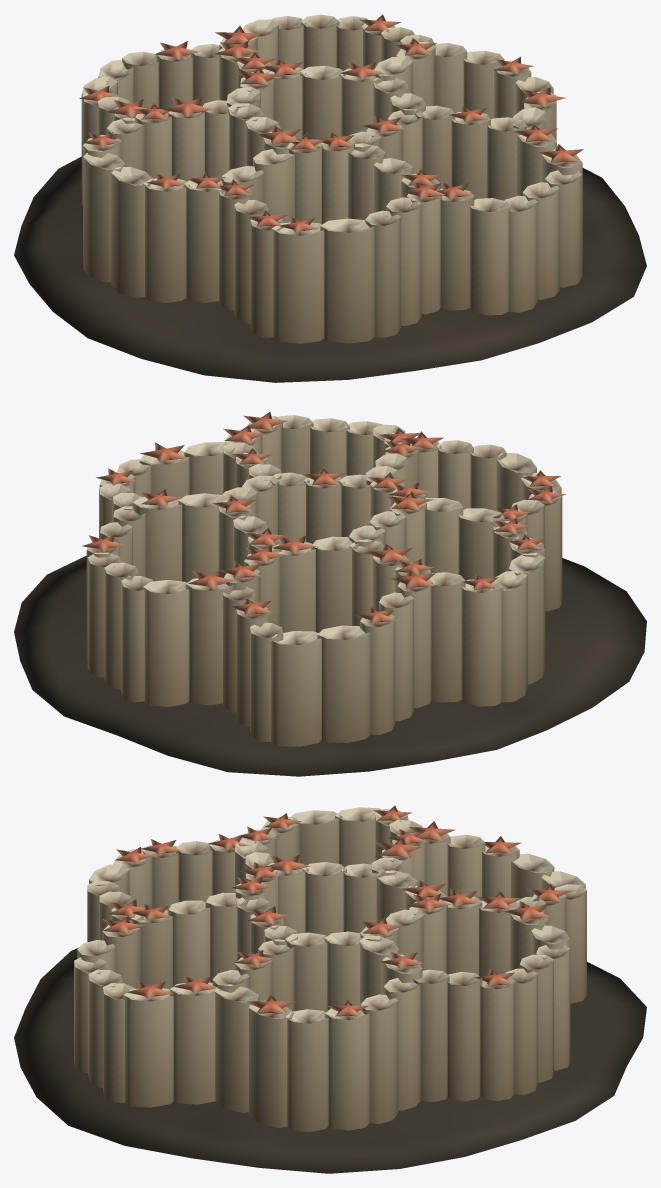
The model's file is HalysitesPriscus.fbx.
3 views of the same model, one above another, from view 1: azimuth 30°, elevation 25°; view 2: azimuth 150°, elevation 25°; view 3: azimuth 270°, elevation 25° (orthographic).
Parts seen in each view (by area): view 1: HalysitesPriscus; view 2: HalysitesPriscus; view 3: HalysitesPriscus.
Part boxes in pixels (left/top/right/bottom): HalysitesPriscus: left=14, top=14, right=646, bottom=382; HalysitesPriscus: left=14, top=411, right=646, bottom=776; HalysitesPriscus: left=14, top=805, right=646, bottom=1173.
Size of the model in its own units: 1.1 by 0.3128 by 1.09.
